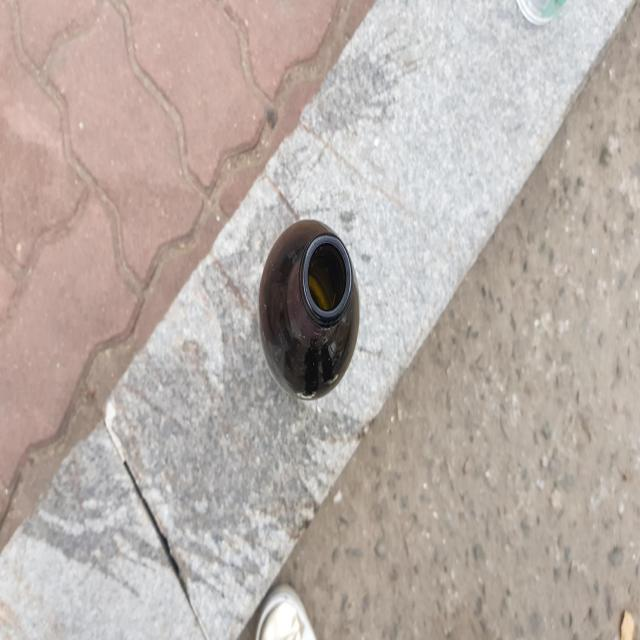glass: (259, 219, 359, 399)
